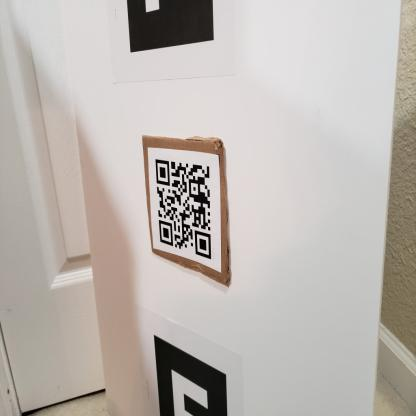qr: (153, 156, 216, 261)
